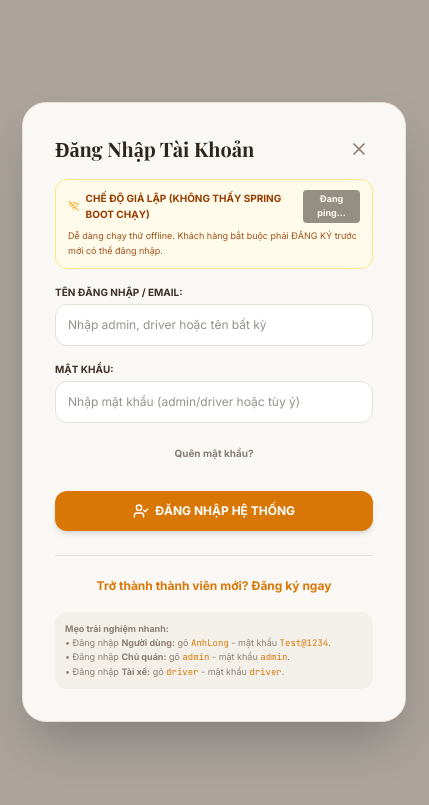
Scenario: AuthModal › switches to register form when clicking toggle link
Click the button "Trở thành thành viên mới? Đăng ký ngay" at point(214, 586), box [97,578,331,594]
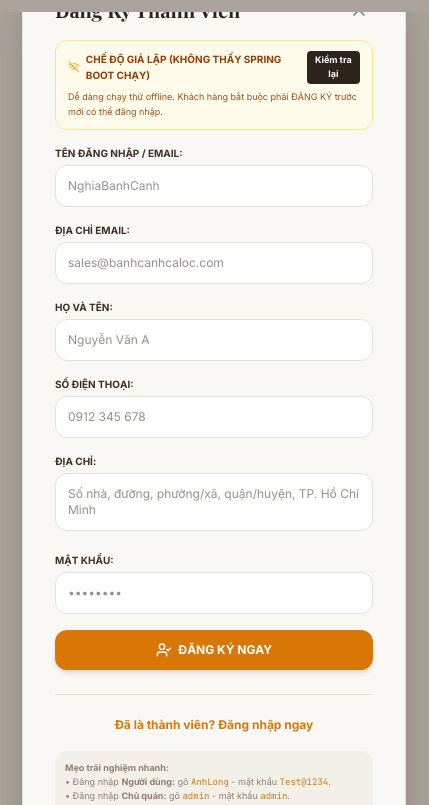
Check: the text "ĐĂNG KÝ NGAY" is shown, box [178,642,272,658]
